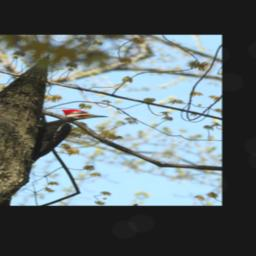Woodpecker: (12, 102, 113, 174)
